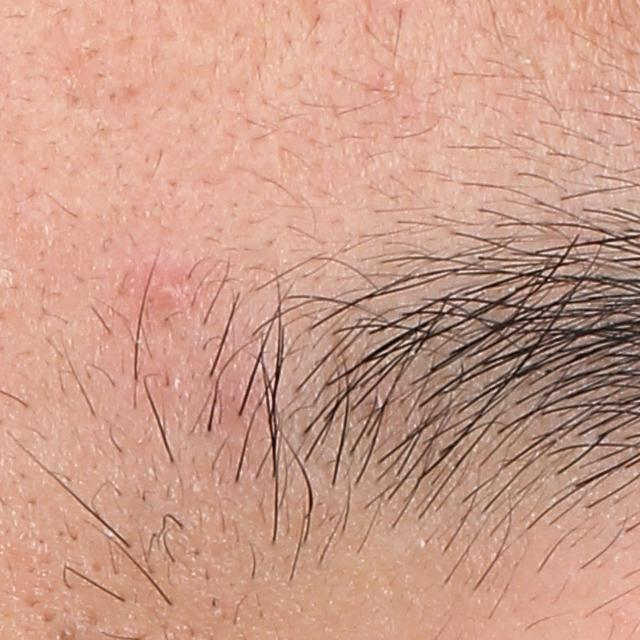papule: (145, 271, 189, 313)
